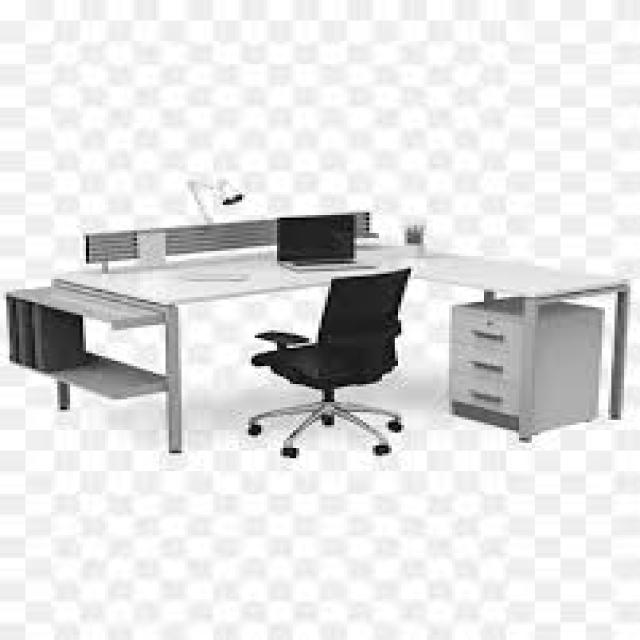chair: (227, 264, 438, 511)
